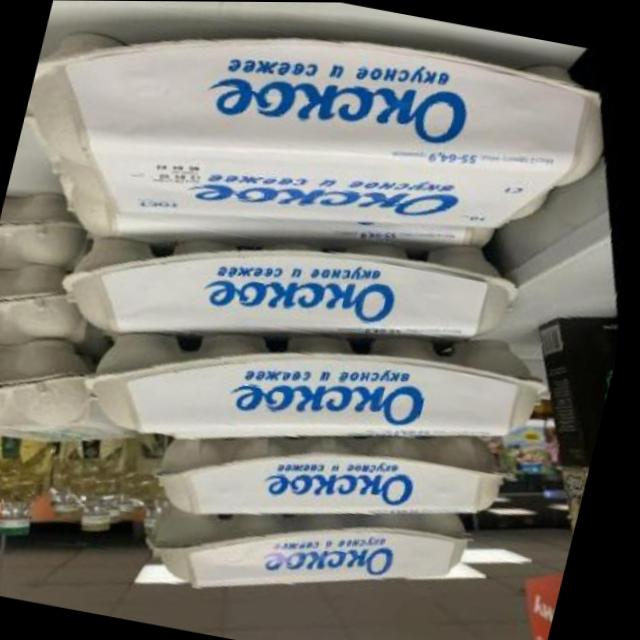Egg: (0, 0, 640, 333), (60, 251, 579, 516), (39, 155, 554, 415), (138, 371, 532, 573), (131, 452, 505, 640), (44, 421, 158, 544), (0, 318, 109, 443), (0, 417, 87, 555), (0, 248, 99, 361), (0, 176, 92, 284)
